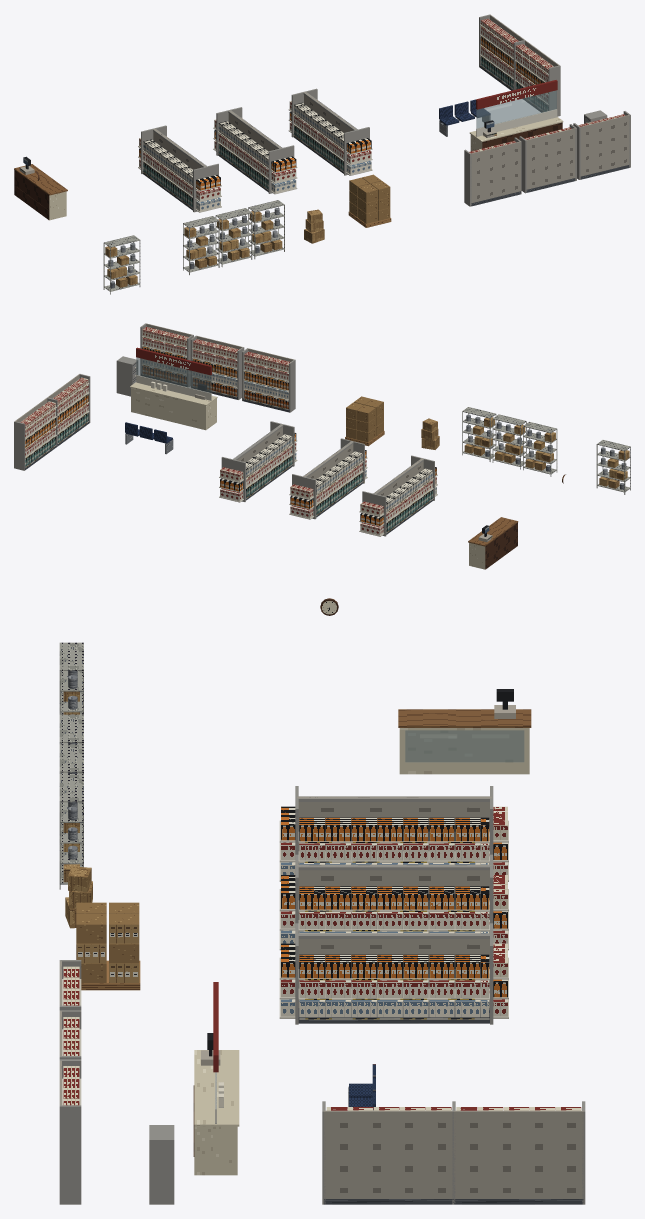
File: COM_Pharmacy_Furnishing.glb
3 views of the same model, one above another, from view 1: azimuth 30°, elevation 25°; view 2: azimuth 150°, elevation 25°; view 3: azimuth 270°, elevation 25° (orthographic). The views are drawn at different scales.
Visible parts, largest first — view 1: COM_Pharmacy_Furnishing_Mesh; view 2: COM_Pharmacy_Furnishing_Mesh; view 3: COM_Pharmacy_Furnishing_Mesh.
Part boxes in pixels (x1=…): COM_Pharmacy_Furnishing_Mesh: x1=14, y1=14, x2=630, y2=294; COM_Pharmacy_Furnishing_Mesh: x1=14, y1=323, x2=630, y2=569; COM_Pharmacy_Furnishing_Mesh: x1=59, y1=598, x2=585, y2=1204.
Size of what is drawn, in the model's own units: 20.82 by 2.67 by 9.72.
7 materials, 7 textured.
